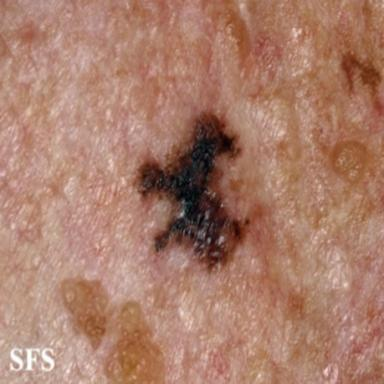Melanoma: (137, 113, 249, 274)
